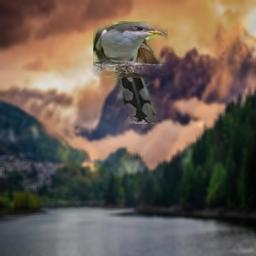Cuckoo: (93, 21, 168, 124)
